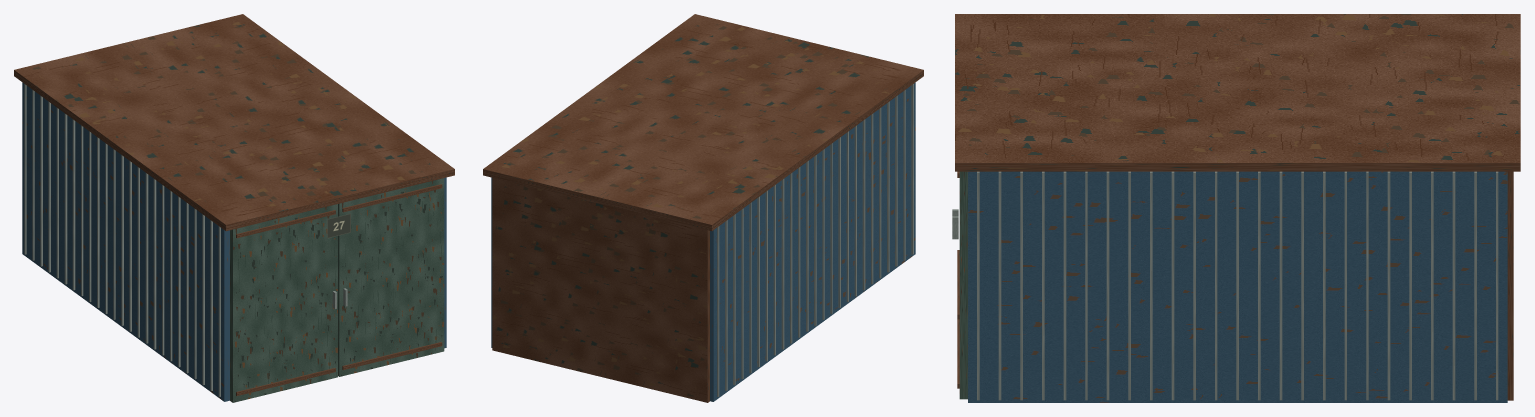
File: CIS_Garage.glb
3 renders of one model, left to right at view 1: azimuth 30°, elevation 25°; view 2: azimuth 150°, elevation 25°; view 3: azimuth 270°, elevation 25°, orthographic. The views are drawn at different scales.
Parts seen in each view (by area): view 1: CIS_Garage; view 2: CIS_Garage; view 3: CIS_Garage.
Boxes of the visible parts, left/top/right/bottom form: CIS_Garage: left=14, top=14, right=454, bottom=402; CIS_Garage: left=483, top=14, right=923, bottom=402; CIS_Garage: left=952, top=14, right=1520, bottom=402.
Size of the model in its own units: 3.4 by 2.58 by 5.47.
5 materials, 5 textured.
